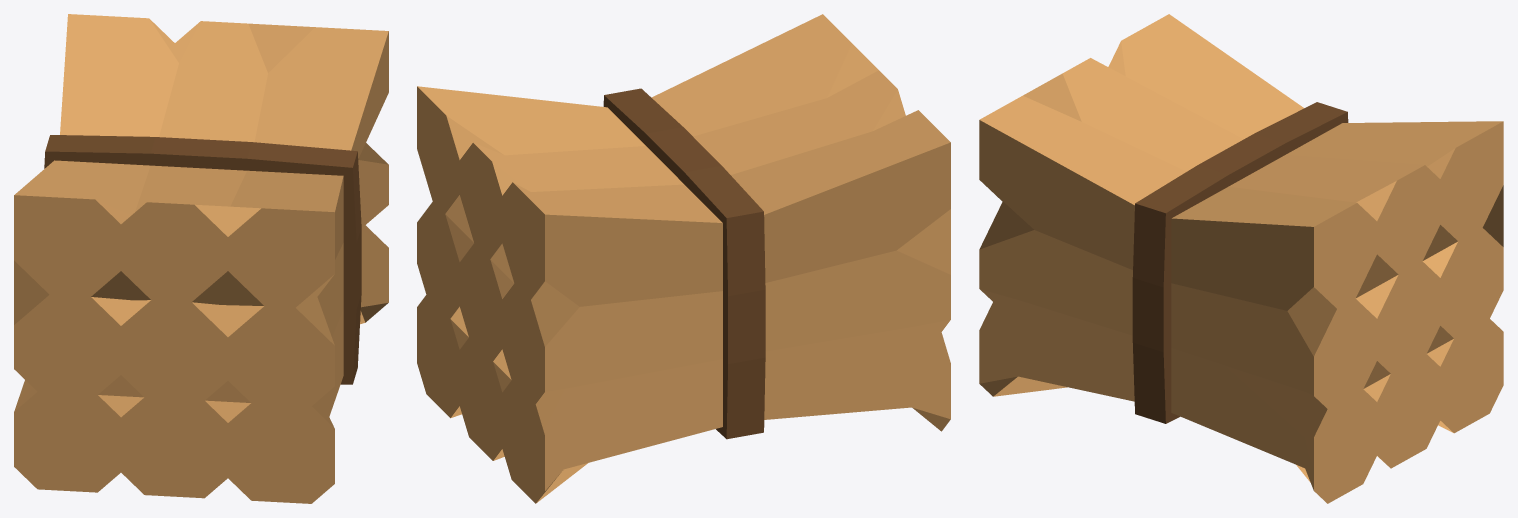
Rendered from env-hay.fbx.
3 renders of one model, left to right at view 1: azimuth 30°, elevation 25°; view 2: azimuth 150°, elevation 25°; view 3: azimuth 270°, elevation 25°, orthographic. The views are drawn at different scales.
Visible parts, largest first — view 1: Cube.173; view 2: Cube.173; view 3: Cube.173.
Part boxes in pixels (box(x1,y1,x2,y2)): Cube.173: box(14, 14, 388, 503); Cube.173: box(417, 14, 950, 503); Cube.173: box(979, 14, 1503, 503).
Size of the model in its own units: 124 by 77.41 by 129.
